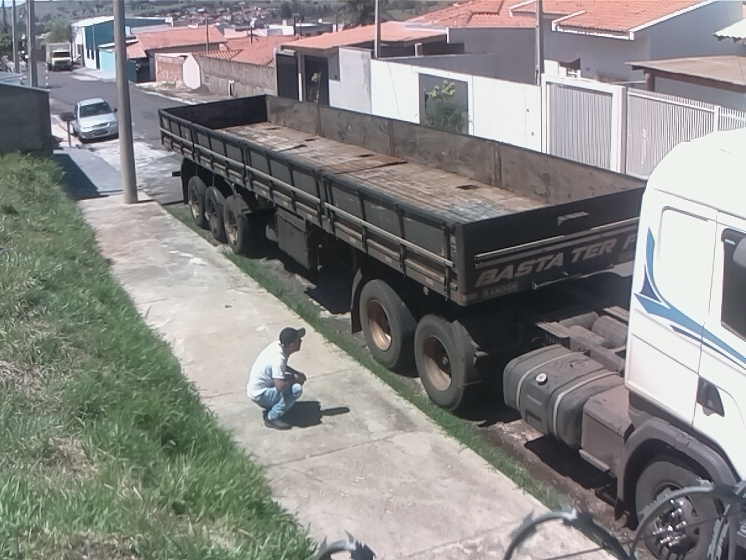person: (244, 325, 311, 436)
